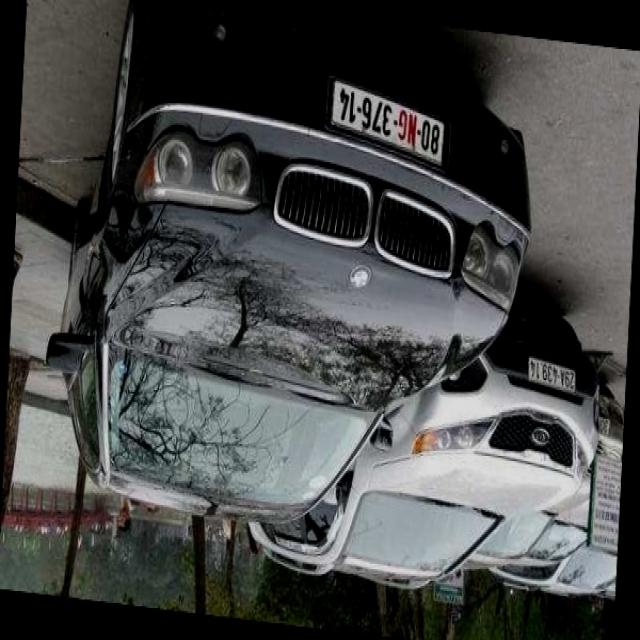bien_ngoai_giao: (331, 74, 448, 174)
